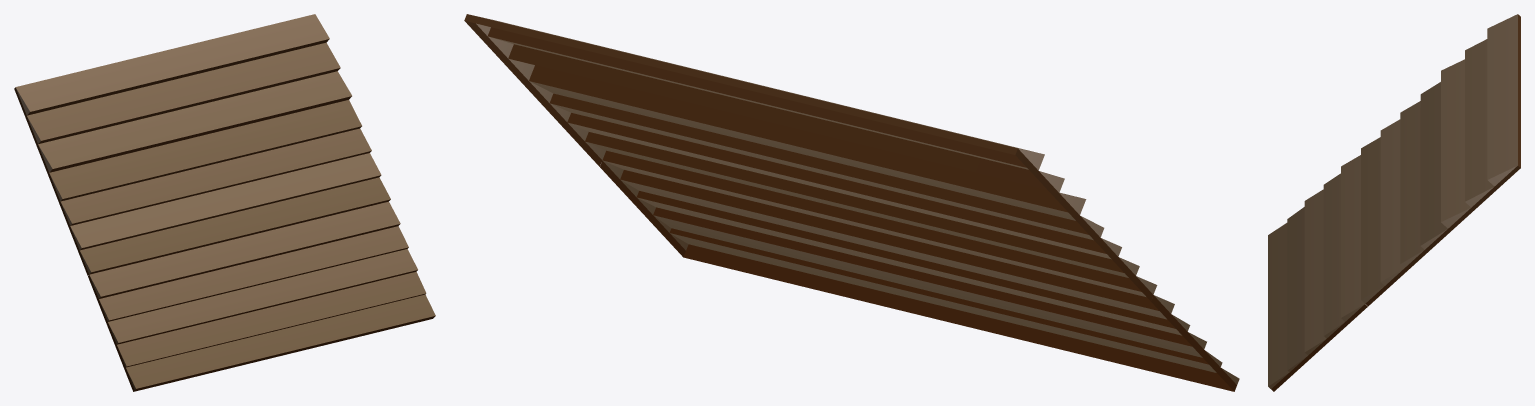
File: Wall_03.fbx
3 renders of one model, left to right at view 1: azimuth 30°, elevation 25°; view 2: azimuth 150°, elevation 25°; view 3: azimuth 270°, elevation 25°, orthographic. The views are drawn at different scales.
Parts seen in each view (by area): view 1: Plane.058; view 2: Plane.058; view 3: Plane.058.
Boxes of the visible parts, bbox=[...] form: Plane.058: bbox=[14, 14, 435, 391]; Plane.058: bbox=[464, 14, 1239, 391]; Plane.058: bbox=[1268, 14, 1520, 391].
Bounding box in the file's own units: 321 × 224 × 226.
